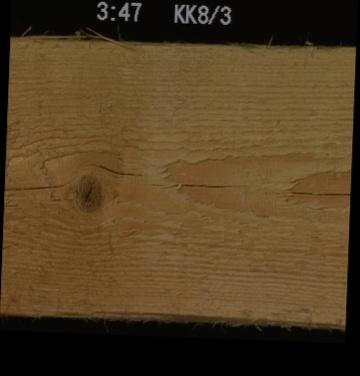sound_knot: (69, 172, 106, 215)
split: (4, 177, 69, 192), (84, 159, 143, 175), (146, 181, 248, 188), (289, 189, 350, 195)
wave: (39, 312, 345, 324)
